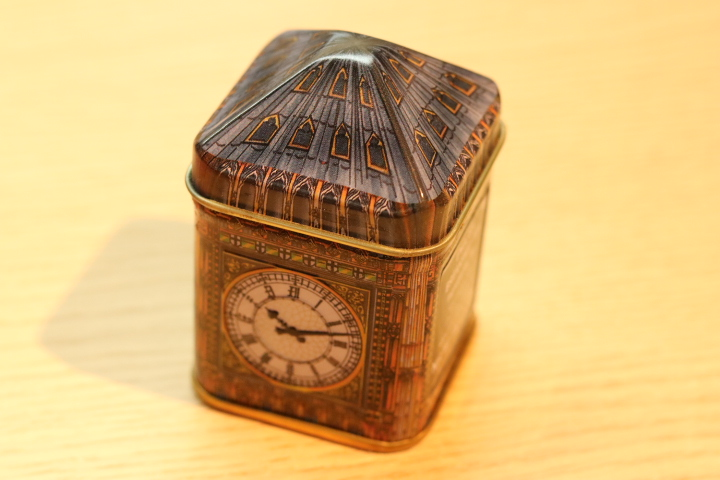Big Ben: (164, 10, 526, 467)
